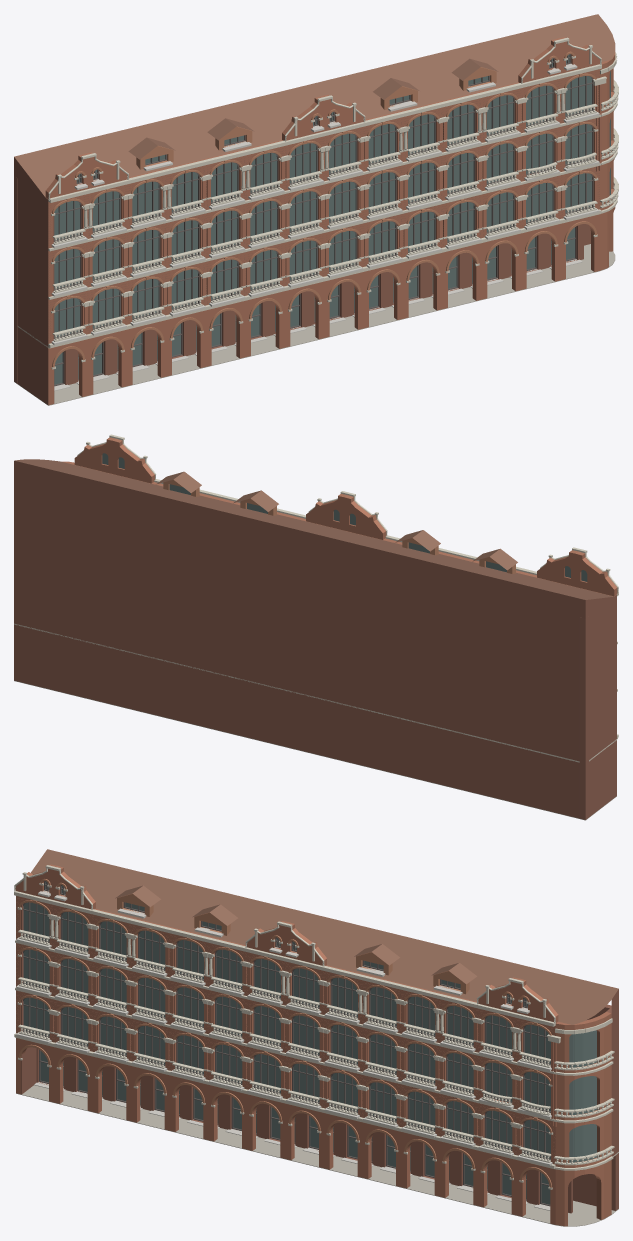
The model's file is huangpu-carlowitz-jiujiang-front-raw.glb.
3 renders of one model, top to bottom at view 1: azimuth 30°, elevation 25°; view 2: azimuth 150°, elevation 25°; view 3: azimuth 330°, elevation 25°, orthographic. The views are drawn at different scales.
Visible parts, largest first — view 1: 礼和洋行九江路街面; view 2: 礼和洋行九江路街面; view 3: 礼和洋行九江路街面.
Part boxes in pixels (box(x1,y1,x2,y2)): 礼和洋行九江路街面: box(14, 14, 618, 405); 礼和洋行九江路街面: box(14, 434, 618, 820); 礼和洋行九江路街面: box(14, 849, 618, 1226).
Size of the model in its own units: 47.5 by 18.72 by 5.12.
